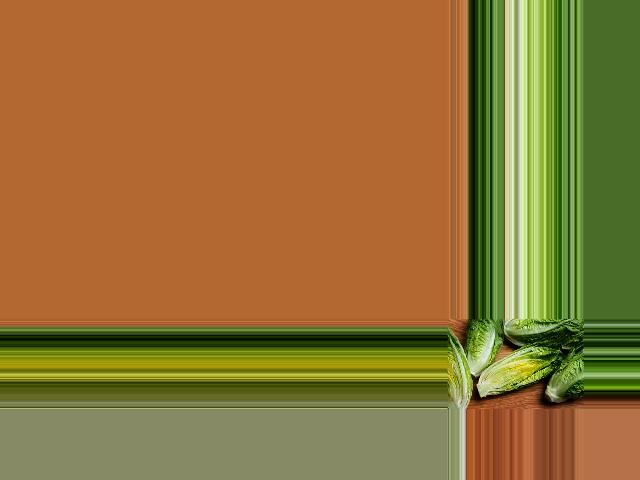lettuce: (446, 329, 474, 407)
